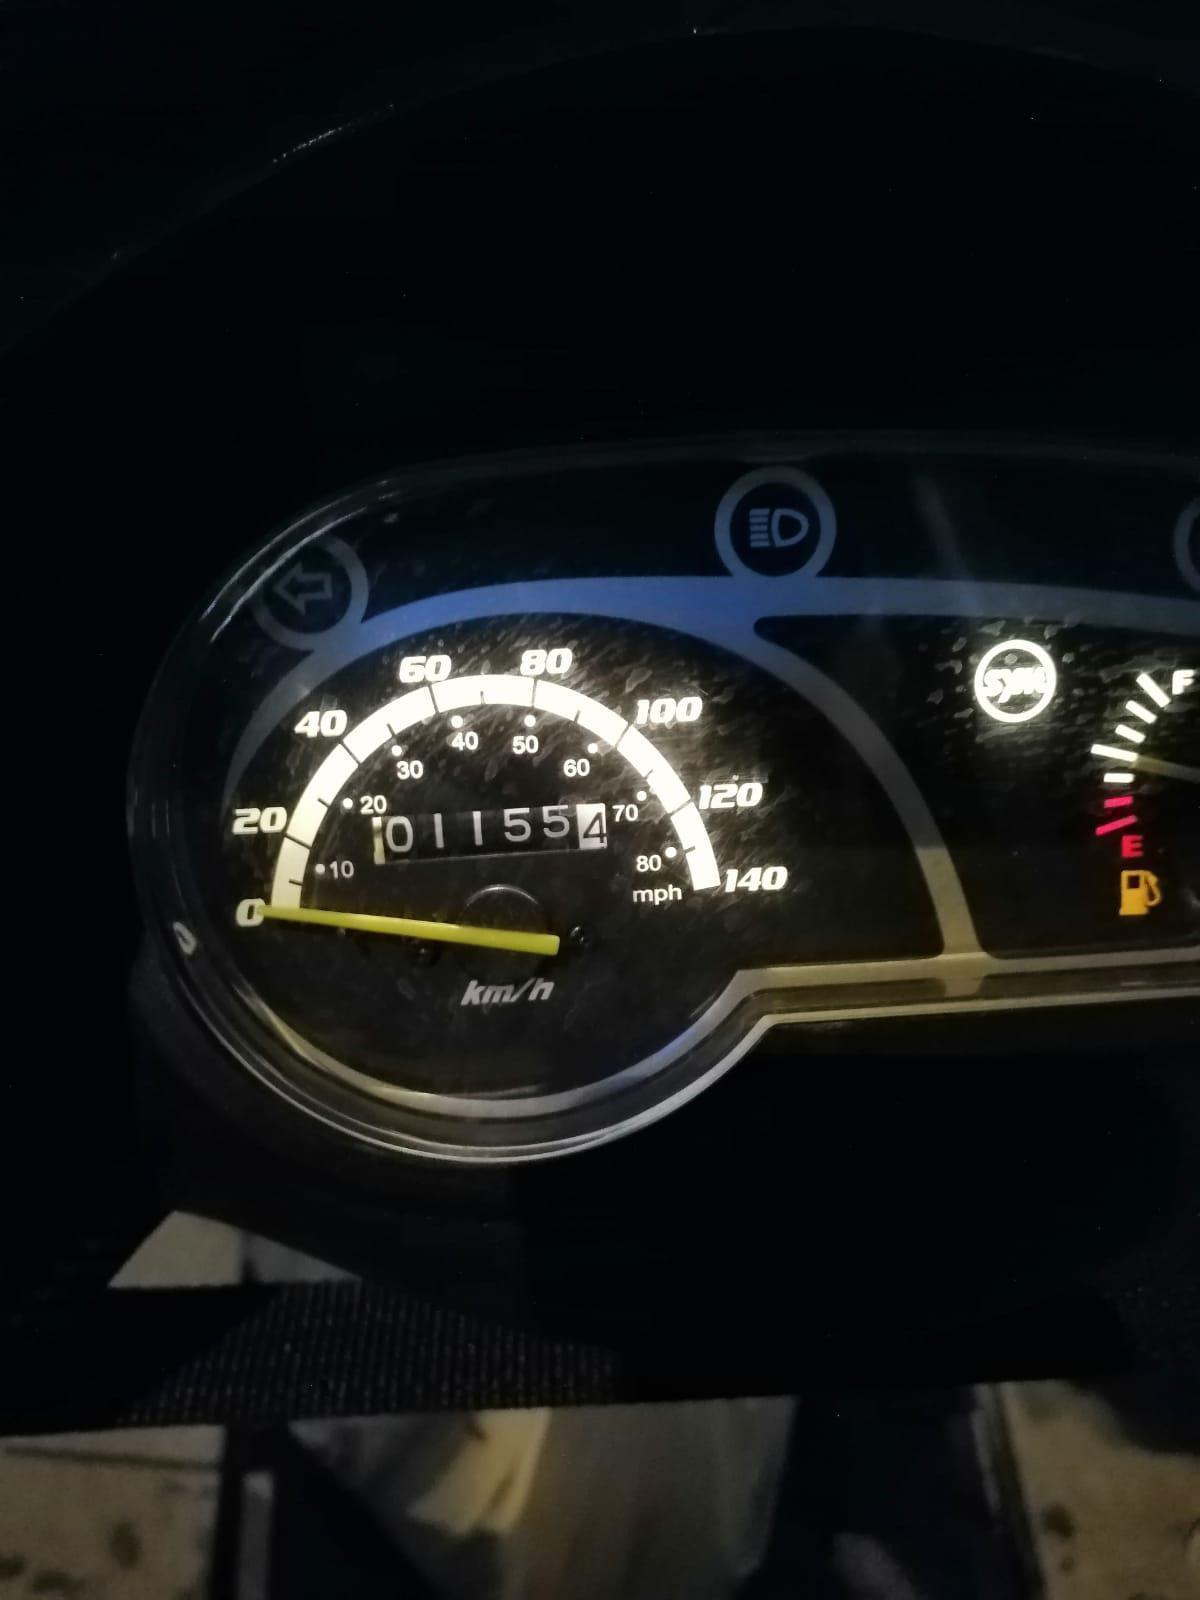0: (383, 814, 416, 854), (372, 794, 387, 815)
1: (429, 809, 447, 852), (469, 808, 487, 849)
2: (359, 795, 374, 816)
4: (580, 808, 609, 847)
5: (499, 805, 534, 843), (539, 803, 574, 840)
odometer: (358, 795, 615, 874)
